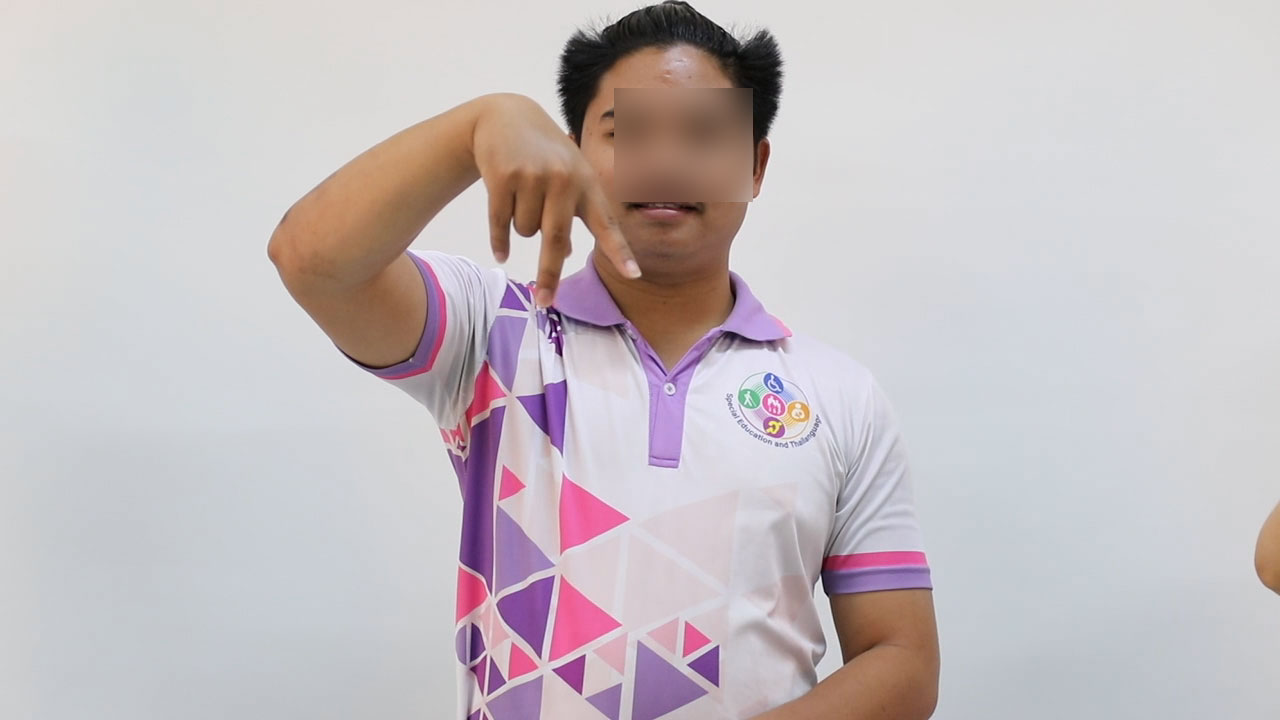por: (451, 82, 647, 313)
